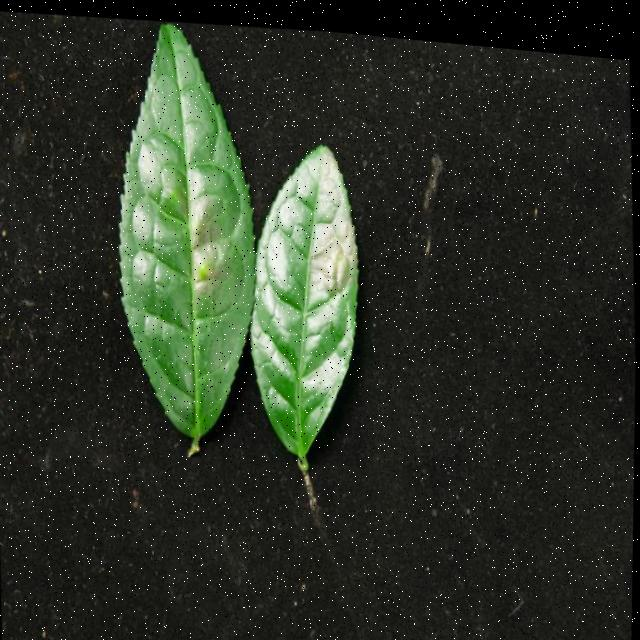Tea exobasidium blight: (243, 144, 366, 378), (172, 149, 232, 299)
